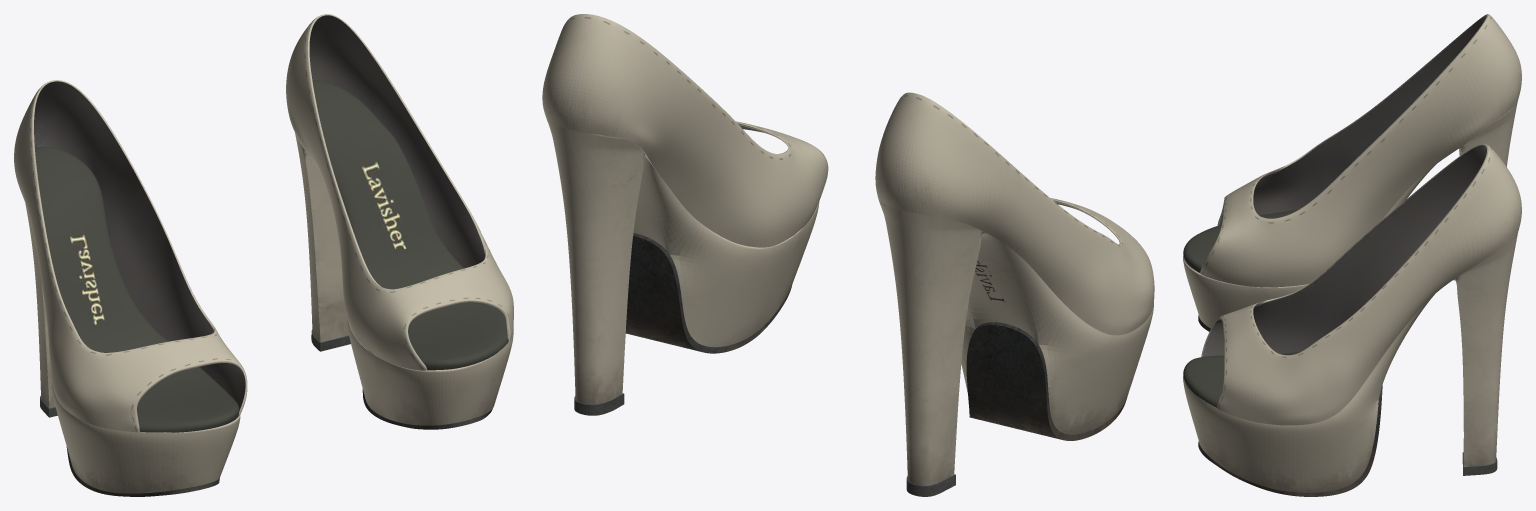
File: salto bege.glb
3 renders of one model, left to right at view 1: azimuth 30°, elevation 25°; view 2: azimuth 150°, elevation 25°; view 3: azimuth 270°, elevation 25°, orthographic. The views are drawn at different scales.
Visible parts, largest first — view 1: Object_4; view 2: Object_4; view 3: Object_4.
Boxes of the visible parts, left/top/right/bottom form: Object_4: left=14, top=14, right=513, bottom=496; Object_4: left=542, top=14, right=1154, bottom=496; Object_4: left=1183, top=14, right=1521, bottom=496.
Bounding box in the file's own units: 5.45 × 3.87 × 3.7.
Materials: 1 (1 with a texture image).
